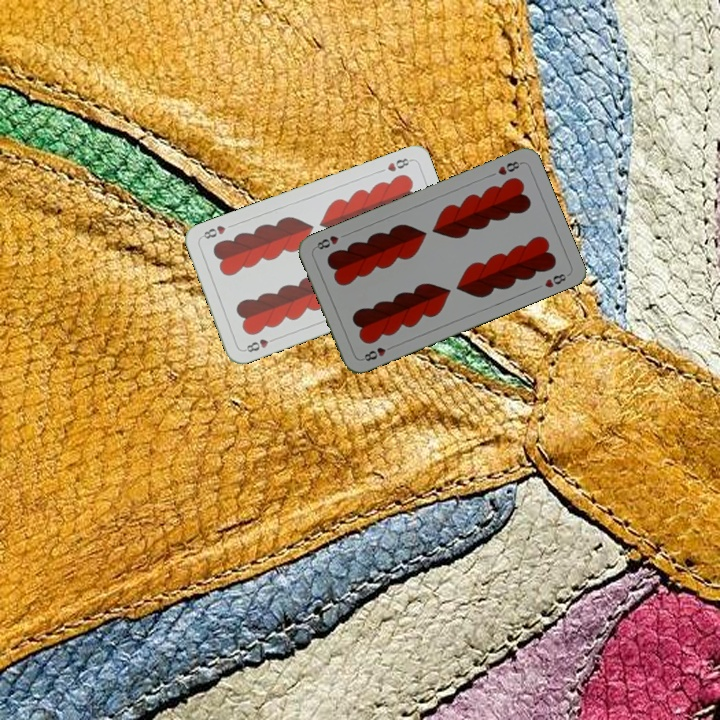H8: (358, 341, 397, 364), (240, 333, 279, 355), (494, 157, 525, 178), (383, 154, 414, 174)
